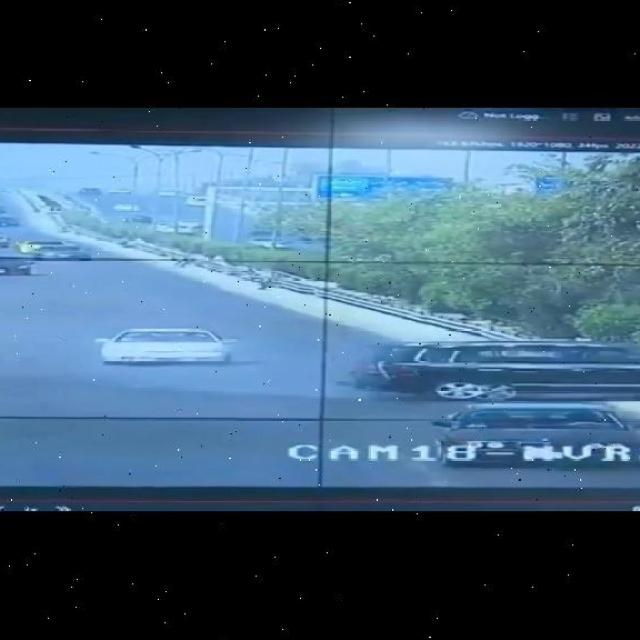accident: (364, 311, 640, 405)
non_accident: (74, 310, 235, 378), (25, 223, 103, 267), (0, 242, 29, 278)
